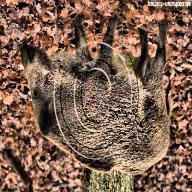boar: (20, 15, 192, 171)
